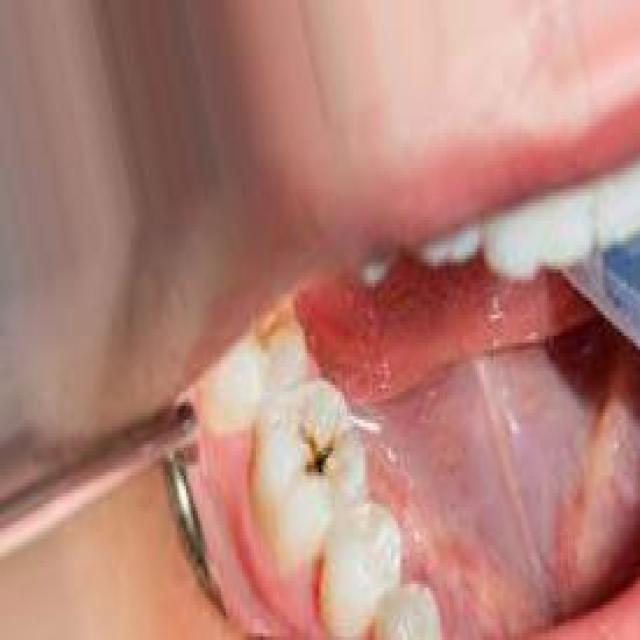caries: (276, 409, 358, 502)
